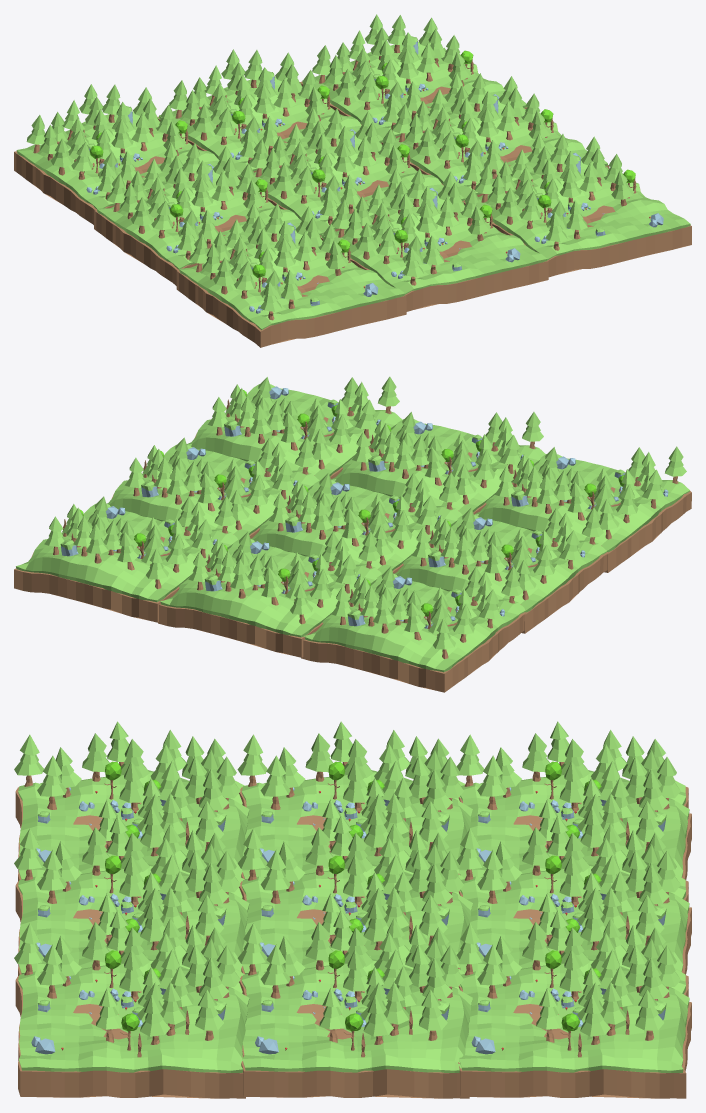
File: forestSceneBIG.glb
The picture shows the model from 3 angles, top to bottom: view 1: azimuth 30°, elevation 25°; view 2: azimuth 150°, elevation 25°; view 3: azimuth 270°, elevation 25°; orthographic projection. The views are drawn at different scales.
Parts seen in each view (by area): view 1: GrassPlane.005, GrassPlane.004, GrassPlane.003, DirtLayer.005, GrassPlane.002, GrassPlane.008, GrassPlane.001, GrassPlane, GrassPlane.007, GrassPlane.006, DirtLayer.004, DirtLayer.003 (+2 smaller); view 2: GrassPlane.008, GrassPlane.007, GrassPlane.006, GrassPlane.005, GrassPlane.002, GrassPlane.004, GrassPlane.003, GrassPlane.001, GrassPlane, DirtLayer.008, DirtLayer.007, DirtLayer.006 (+2 smaller); view 3: GrassPlane.004, GrassPlane.001, GrassPlane.007, GrassPlane.003, GrassPlane.005, GrassPlane.006, GrassPlane.008, GrassPlane, GrassPlane.002, DirtLayer.007, DirtLayer.004, DirtLayer.001 (+111 smaller).
Part boxes in pixels (x1,y1,x2,y2): GrassPlane.005: [179, 230, 405, 330]; GrassPlane.004: [465, 161, 690, 260]; GrassPlane.003: [321, 196, 547, 294]; DirtLayer.005: [176, 271, 406, 347]; GrassPlane.002: [97, 170, 322, 269]; GrassPlane.008: [16, 111, 240, 208]; GrassPlane.001: [383, 100, 607, 199]; GrassPlane: [239, 135, 464, 233]; GrassPlane.007: [302, 42, 527, 138]; GrassPlane.006: [159, 77, 382, 172]; DirtLayer.004: [463, 187, 691, 277]; DirtLayer.003: [320, 237, 548, 311]; GrassPlane.008: [303, 574, 524, 672]; GrassPlane.007: [16, 504, 237, 602]; GrassPlane.006: [160, 539, 381, 637]; GrassPlane.005: [474, 454, 689, 552]; GrassPlane.002: [394, 514, 606, 612]; GrassPlane.004: [186, 384, 402, 480]; GrassPlane.003: [331, 419, 545, 514]; GrassPlane.001: [106, 444, 319, 539]; GrassPlane: [251, 480, 462, 573]; DirtLayer.008: [301, 604, 526, 692]; DirtLayer.007: [14, 534, 233, 622]; DirtLayer.006: [158, 602, 350, 657]; GrassPlane.004: [18, 958, 249, 1072]; GrassPlane.001: [241, 959, 472, 1072]; GrassPlane.007: [459, 958, 689, 1072]; GrassPlane.003: [18, 864, 249, 974]; GrassPlane.005: [18, 770, 249, 879]; GrassPlane.006: [459, 864, 689, 972]; GrassPlane.008: [459, 770, 689, 878]; GrassPlane: [241, 864, 472, 974]; GrassPlane.002: [241, 770, 472, 879]; DirtLayer.007: [458, 975, 691, 1098]; DirtLayer.004: [15, 976, 245, 1098]; DirtLayer.001: [239, 976, 469, 1098].
Bounding box in the file's own units: 49.78 × 8.46 × 49.
